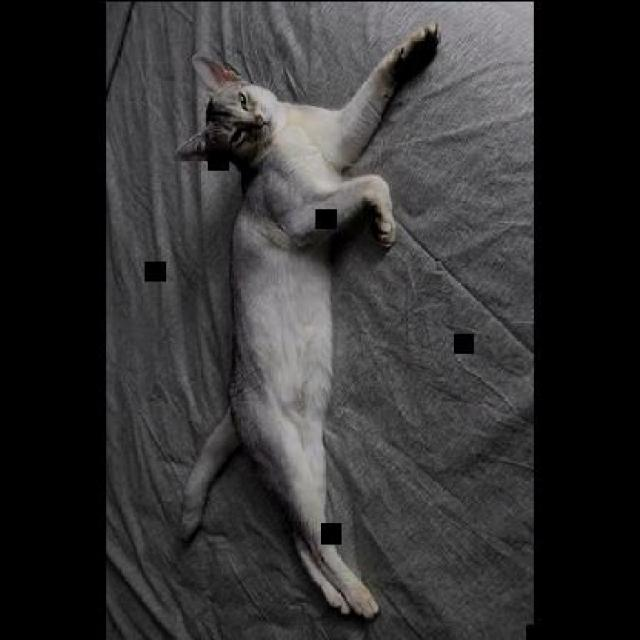unauthorized: (172, 20, 440, 620)
